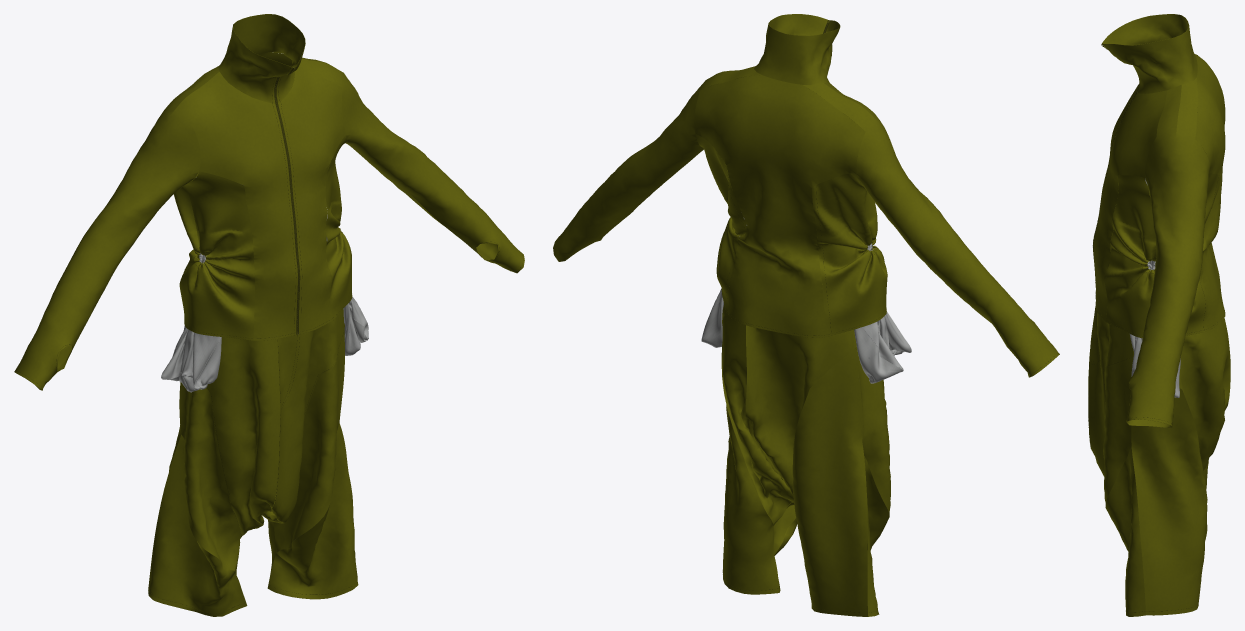
Rendered from asset.glb.
3 views of the same model, side by side, from view 1: azimuth 30°, elevation 25°; view 2: azimuth 150°, elevation 25°; view 3: azimuth 270°, elevation 25° (orthographic).
Parts seen in each view (by area): view 1: P0019, P0017, P0018, P0027, P0006, P0008, P0001, P0020, P0002, P0012, P0021, PARTS28 (+4 smaller); view 2: PARTS22, P0007, P0019, P0018, P0004, P0008, P0022, P0003, PARTS28, P0002, P0005, P0001 (+3 smaller); view 3: P0008, P0022, P0005, PARTS28, P0006, P0003, PARTS22, P0020, P0012, P0021, P0017, P0011 (+1 smaller).
Boxes of the visible parts, box(x1,y1,x2,y2) form: P0019: box(14, 65, 227, 390); P0017: box(192, 83, 297, 340); P0018: box(173, 171, 254, 340); P0027: box(206, 337, 280, 536); P0006: box(278, 68, 345, 333); P0008: box(268, 51, 524, 273); P0001: box(148, 434, 247, 616); P0020: box(267, 423, 358, 599); P0002: box(179, 382, 241, 572); P0012: box(262, 275, 343, 523); P0021: box(273, 330, 344, 552); PARTS28: box(218, 14, 305, 103); PARTS22: box(694, 75, 865, 337); P0007: box(792, 348, 867, 616); P0019: box(803, 83, 1059, 377); P0018: box(812, 173, 887, 336); P0004: box(745, 325, 854, 497); P0008: box(553, 66, 761, 261); P0022: box(723, 405, 779, 594); P0003: box(721, 284, 794, 525); PARTS28: box(754, 14, 840, 84); P0002: box(855, 350, 890, 515); P0005: box(695, 133, 746, 313); P0001: box(864, 455, 889, 616); P0008: box(1126, 78, 1209, 427); P0022: box(1131, 359, 1207, 615); P0005: box(1104, 173, 1221, 338); PARTS28: box(1102, 14, 1197, 93); P0006: box(1093, 90, 1166, 321); P0003: box(1133, 315, 1230, 470); PARTS22: box(1195, 55, 1225, 330); P0020: box(1105, 446, 1145, 616); P0012: box(1088, 292, 1133, 476); P0021: box(1103, 357, 1133, 502); P0017: box(1093, 84, 1139, 242); P0011: box(1130, 261, 1180, 397).
Size of the model in its own units: 1.27 by 1.4 by 0.3196.
13 materials, 13 textured.
